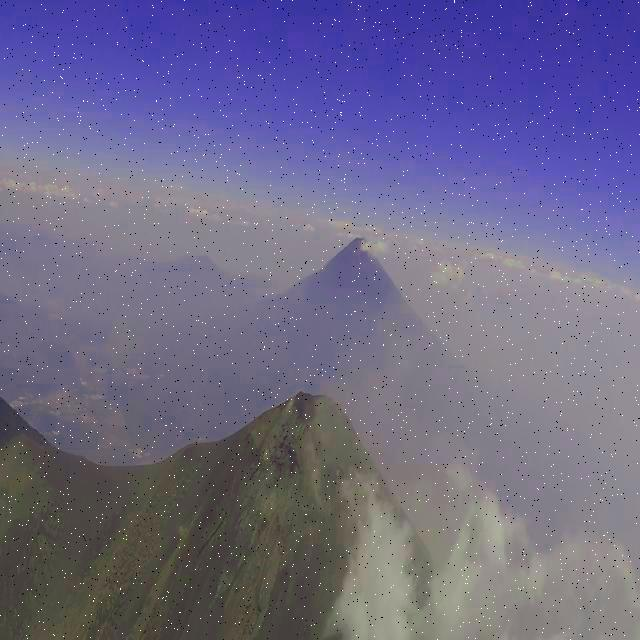Summit: (160, 357, 424, 546)
